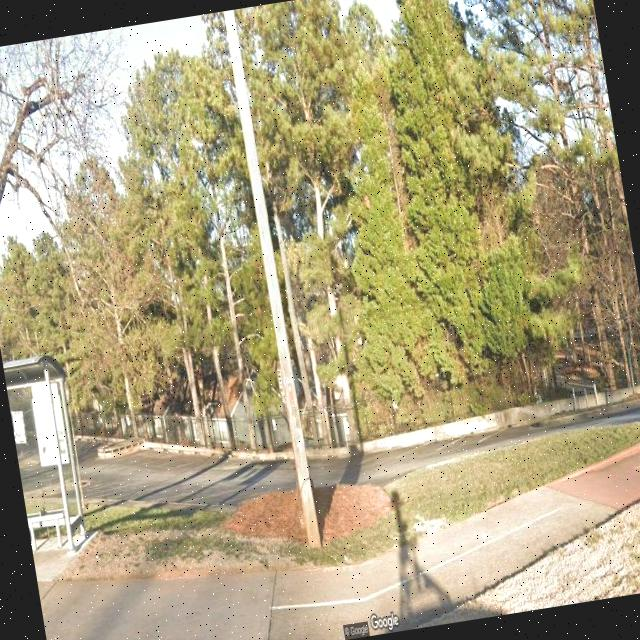seating: (26, 506, 68, 554)
shelter: (2, 350, 94, 562)
